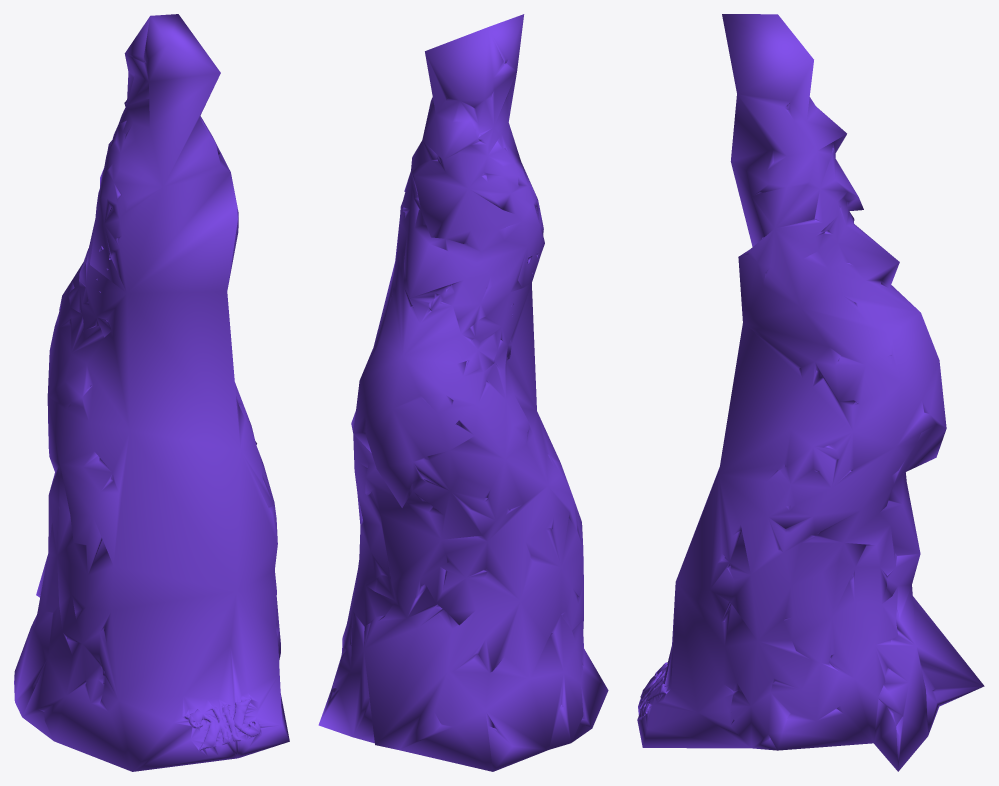
File: large-mast-ar.glb
3 views of the same model, side by side, from view 1: azimuth 30°, elevation 25°; view 2: azimuth 150°, elevation 25°; view 3: azimuth 270°, elevation 25° (orthographic). The views are drawn at different scales.
Bounding box in the file's own units: 0.1059 × 0.2983 × 0.1334.
